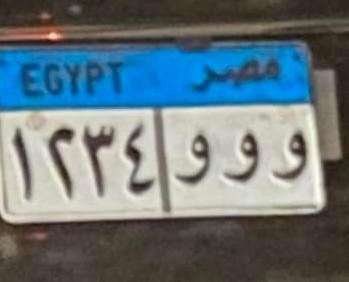1: (13, 120, 37, 196)
2: (44, 116, 77, 202)
3: (82, 117, 119, 204)
4: (123, 113, 154, 204)
و: (267, 116, 315, 195), (172, 122, 218, 191), (224, 127, 264, 188)
